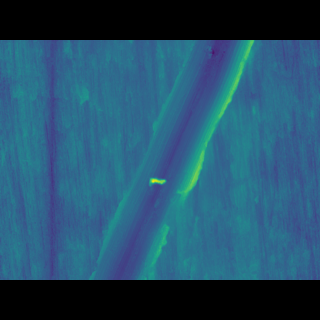Loch: (88, 69, 256, 249)
